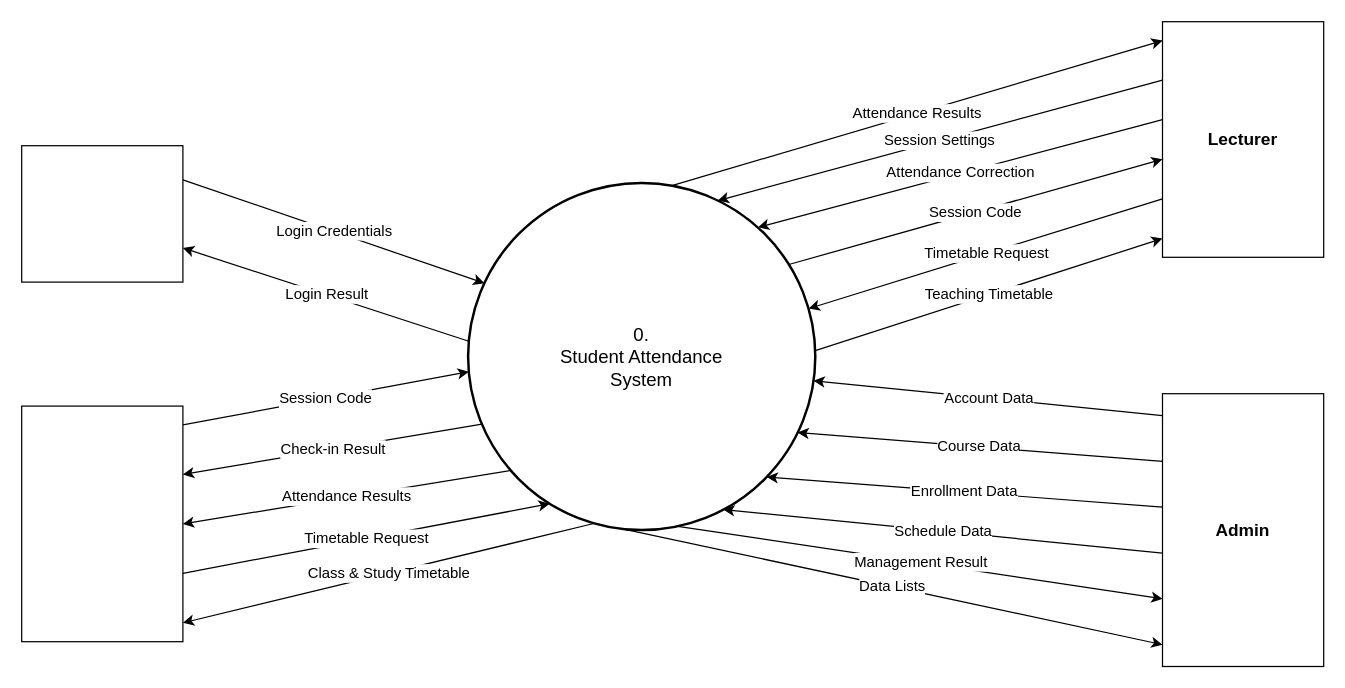
Some shapes in this 1345 by 688 pixel diagram are drawn without their labels. The shapes that lost their labels are listed below. From the top down, each one's centre as x and y in pixels, then its label:
point (101, 213): Guest
point (101, 523): Student
